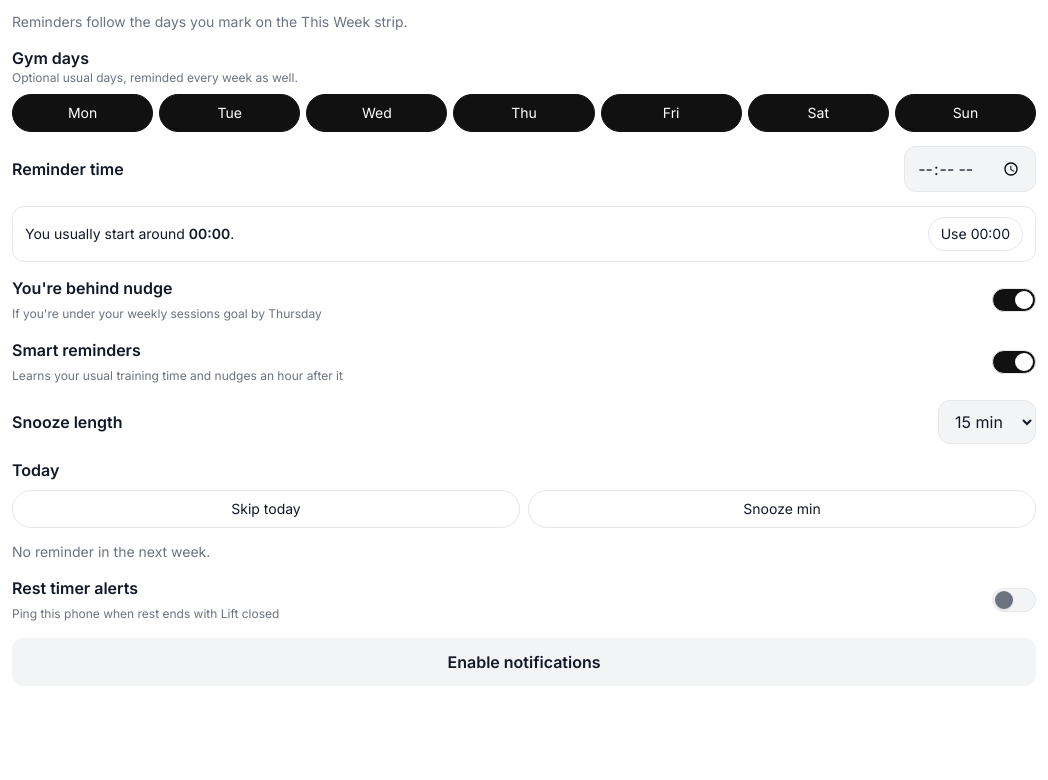
Test: ReminderSettings push toggle › enables, then turns off
The image size is (1048, 780).
Click the button "Enable notifications" at [524, 662], box [12,638,1036,686]
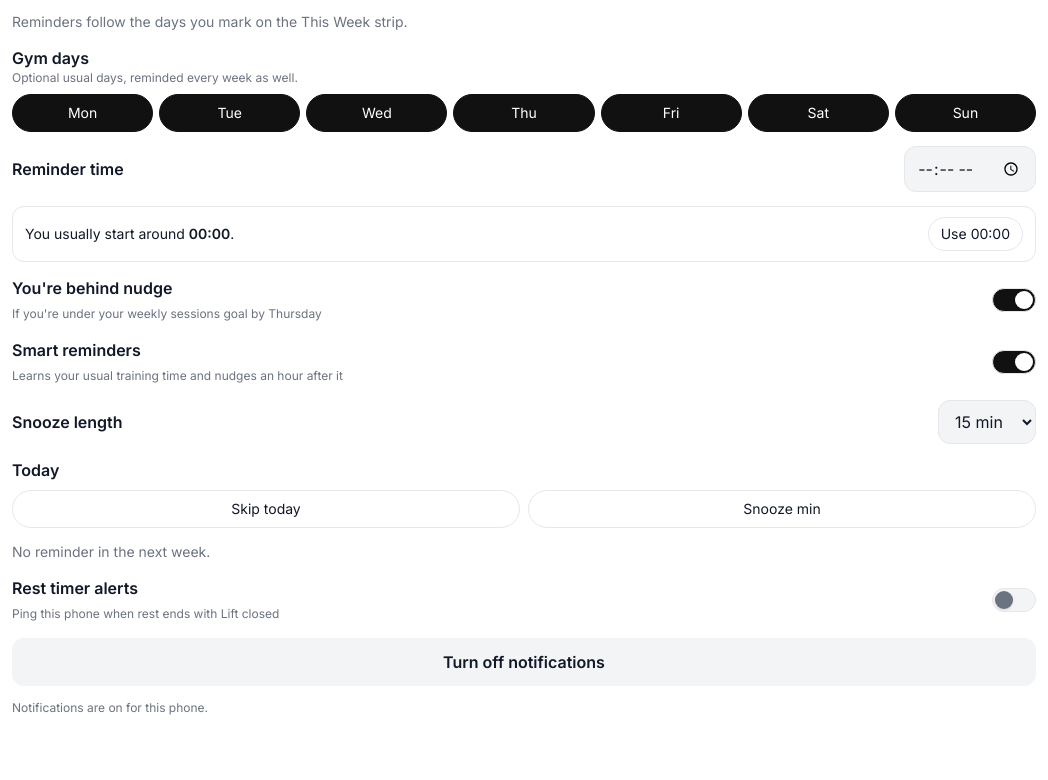
Result: the message reads "Notifications are on for this phone." at [12,700,208,715]
Click the button "Turn off notifications" at [524, 662], box [12,638,1036,686]
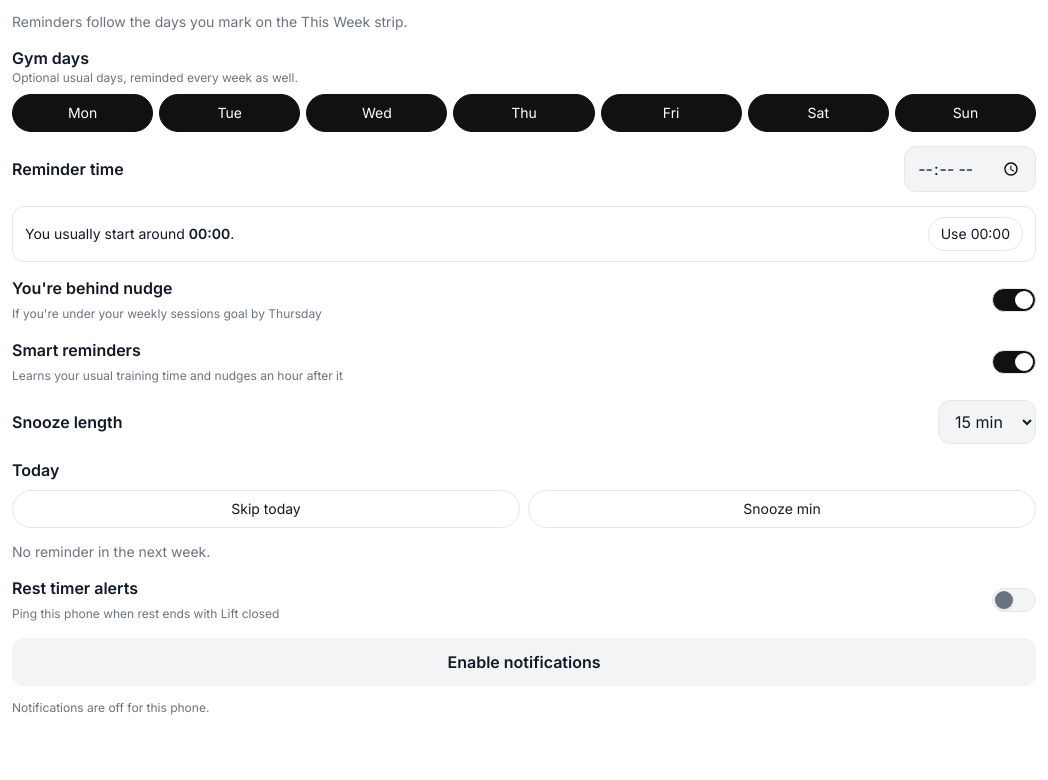
Result: the message reads "Notifications are off for this phone." at [12,700,209,715]
Result: the button "Enable notifications" is shown at [12,638,1036,686]
